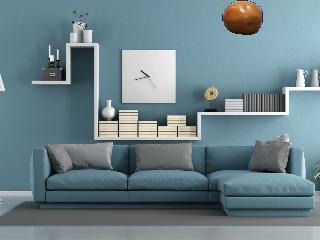potato: (222, 0, 264, 35)
